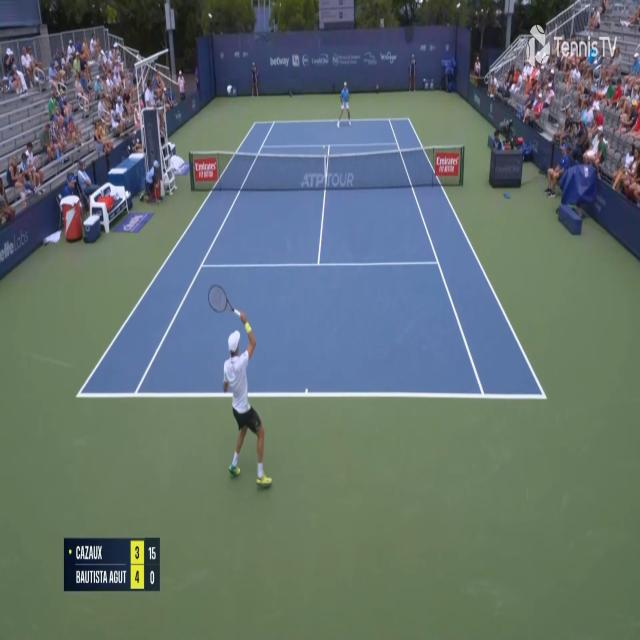tennis-player: (220, 257, 267, 490), (336, 79, 352, 131)
